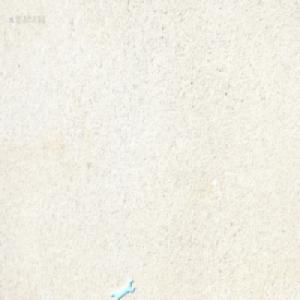Wrench: (111, 277, 135, 299)
